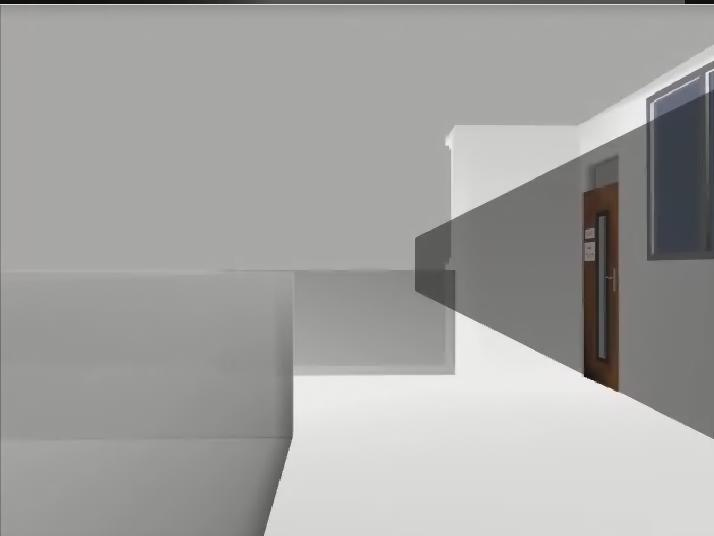door: (583, 183, 619, 393)
